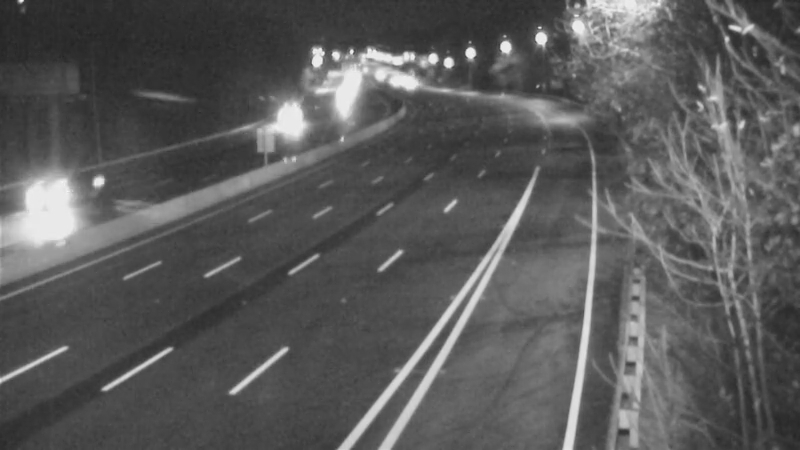vehicle: (12, 158, 92, 238), (386, 62, 436, 112), (261, 99, 311, 149), (315, 74, 365, 124)
